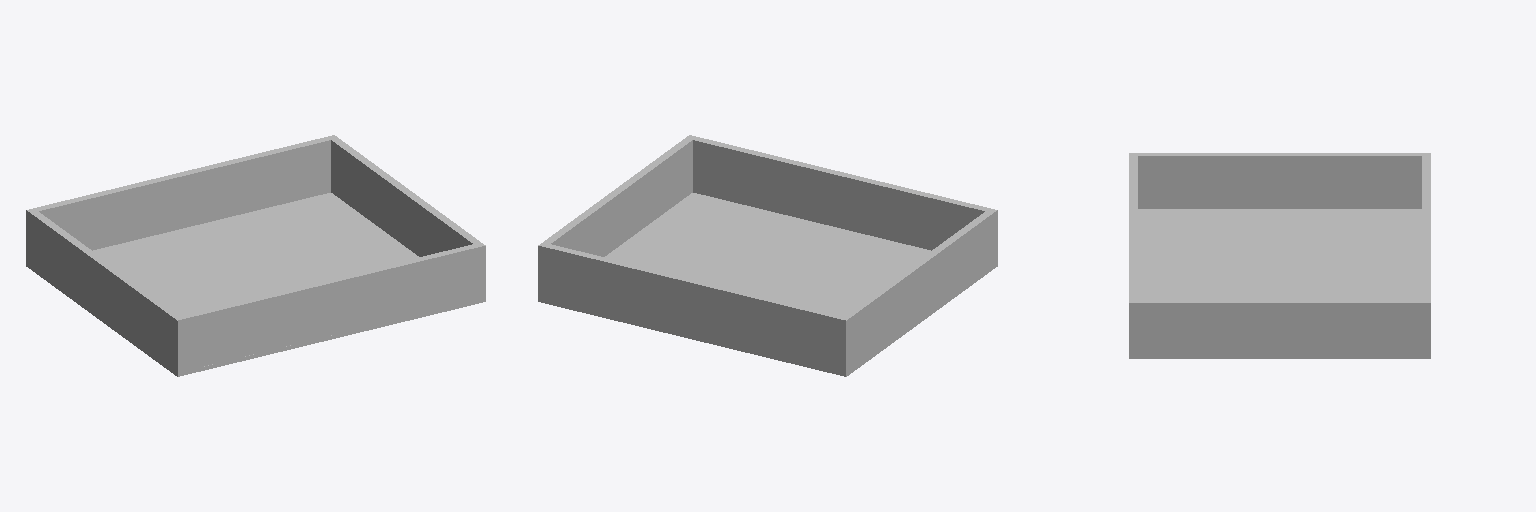
Rendered from place.obj.
The picture shows the model from 3 angles: view 1: azimuth 30°, elevation 25°; view 2: azimuth 150°, elevation 25°; view 3: azimuth 270°, elevation 25°; orthographic projection.
Parts seen in each view (by area): view 1: room; view 2: room; view 3: room.
Part boxes in pixels (x1,y1,x2,y2): room: (26,135,485,376); room: (538,135,997,376); room: (1129,153,1430,358).
Size of the model in its own units: 400 by 70 by 340.